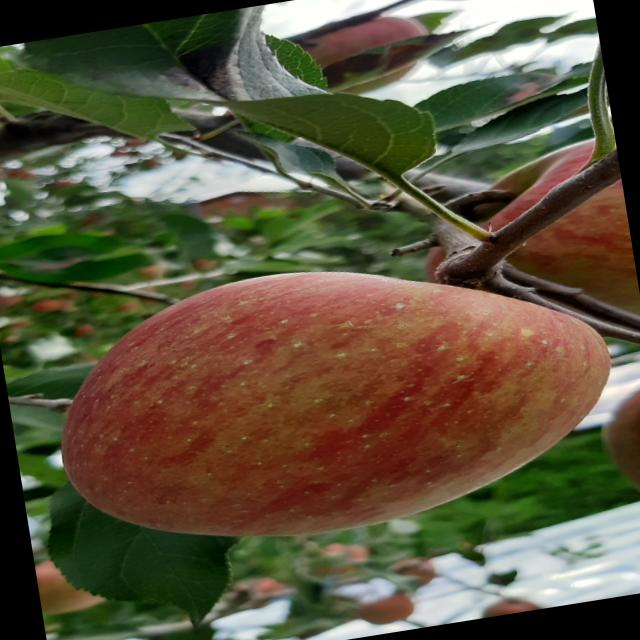fresh: (24, 214, 640, 577)
